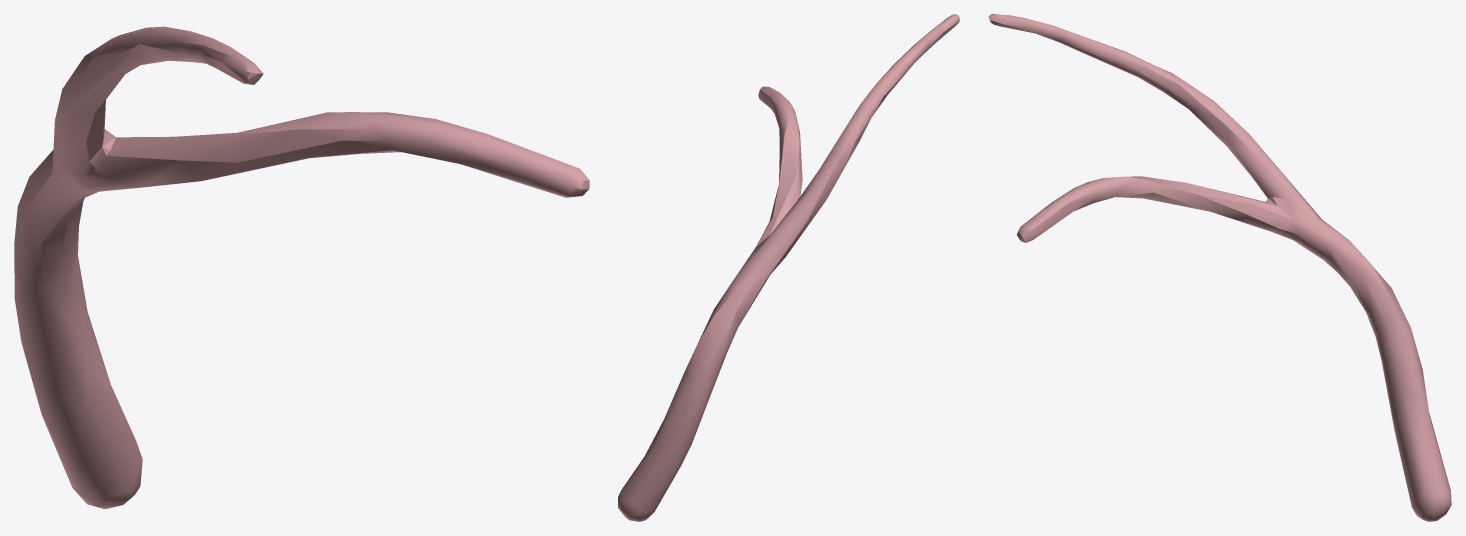
The model's file is fma71885_fj3105.glb.
3 renders of one model, left to right at view 1: azimuth 30°, elevation 25°; view 2: azimuth 150°, elevation 25°; view 3: azimuth 270°, elevation 25°, orthographic. The views are drawn at different scales.
Visible parts, largest first — view 1: FMA71885_FJ3105; view 2: FMA71885_FJ3105; view 3: FMA71885_FJ3105.
Part boxes in pixels (box(x1,y1,x2,y2)): FMA71885_FJ3105: box(14, 26, 589, 509); FMA71885_FJ3105: box(618, 14, 959, 521); FMA71885_FJ3105: box(988, 14, 1451, 521).
Bounding box in the file's own units: 0.00746 × 0.015 × 0.0144.
